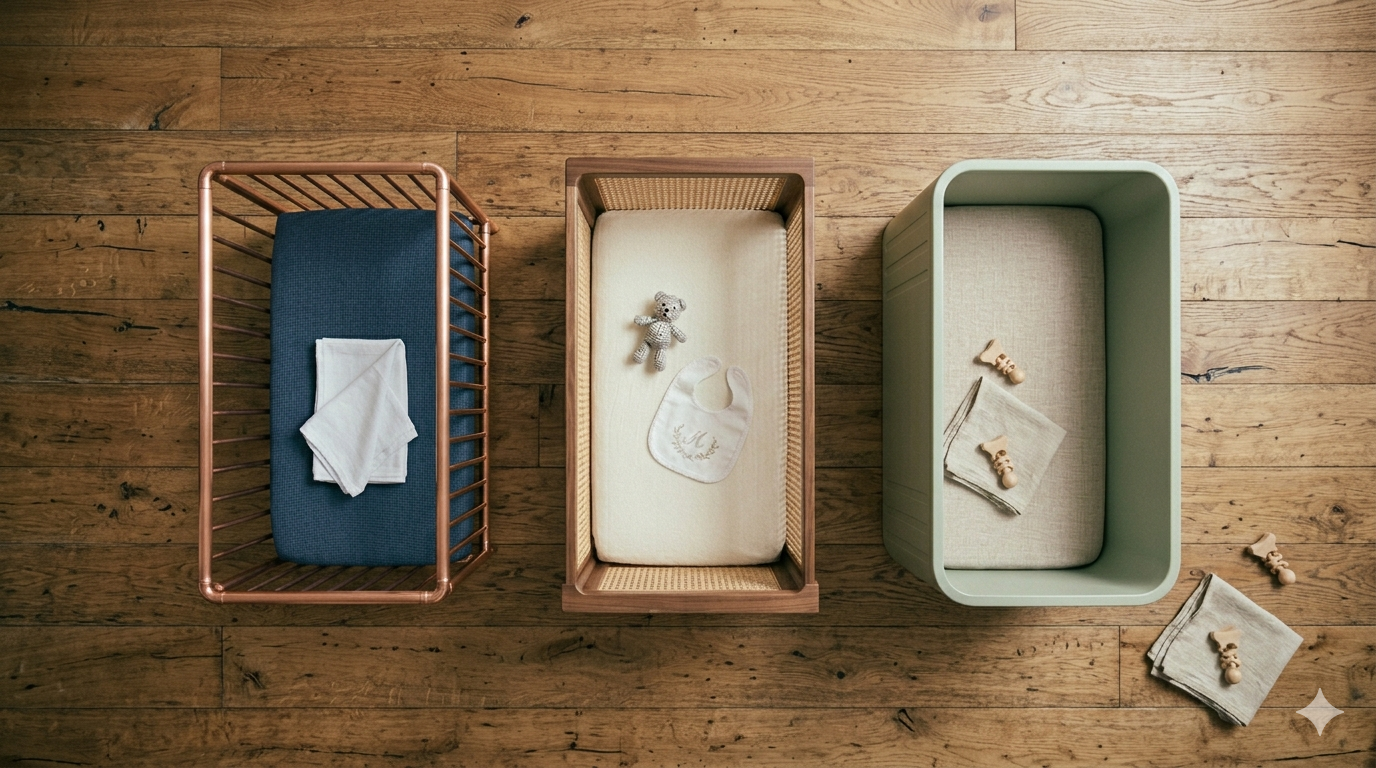crib: (883, 159, 1180, 605), (198, 162, 494, 603), (562, 158, 817, 612)
